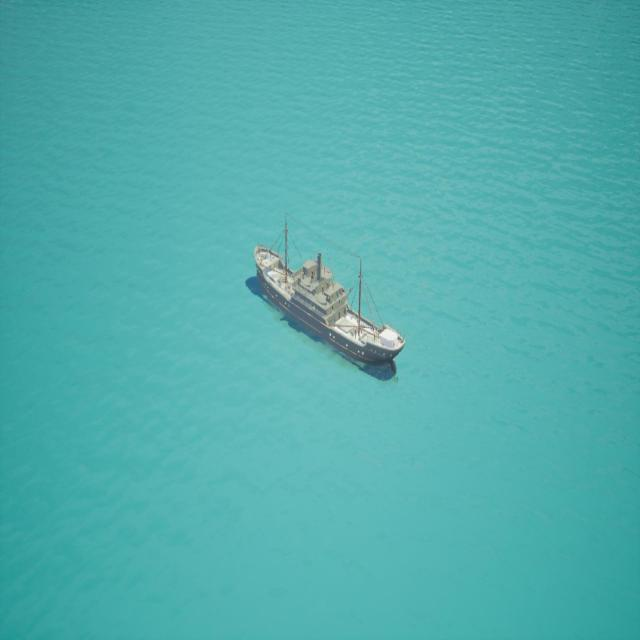fishing ship: (249, 218, 405, 381)
